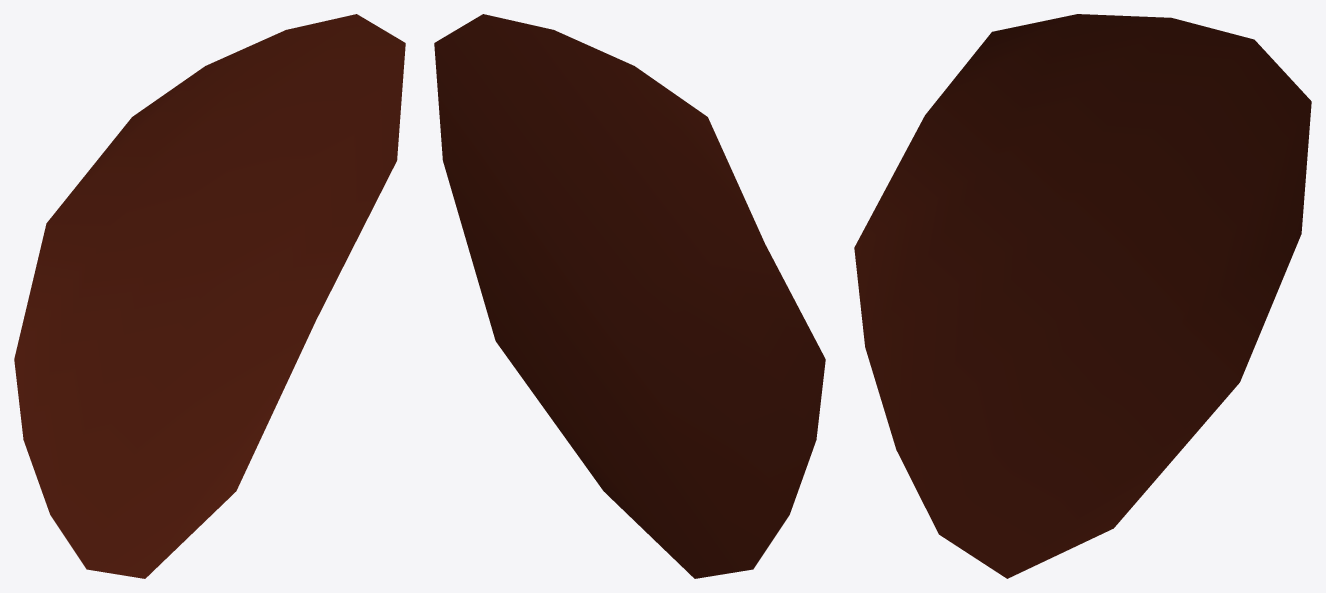
The model's file is finch_feather_flight_tertiary_064.obj.
3 views of the same model, side by side, from view 1: azimuth 30°, elevation 25°; view 2: azimuth 150°, elevation 25°; view 3: azimuth 330°, elevation 25° (orthographic). The views are drawn at different scales.
Parts seen in each view (by area): view 1: feather_flight_tertiary_064; view 2: feather_flight_tertiary_064; view 3: feather_flight_tertiary_064.
Part boxes in pixels (<box>): feather_flight_tertiary_064: <box>14,14,405,578</box>; feather_flight_tertiary_064: <box>434,14,825,578</box>; feather_flight_tertiary_064: <box>854,14,1311,578</box>.
Bounding box in the file's own units: 0.00245 × 0.00308 × 0.000153.
